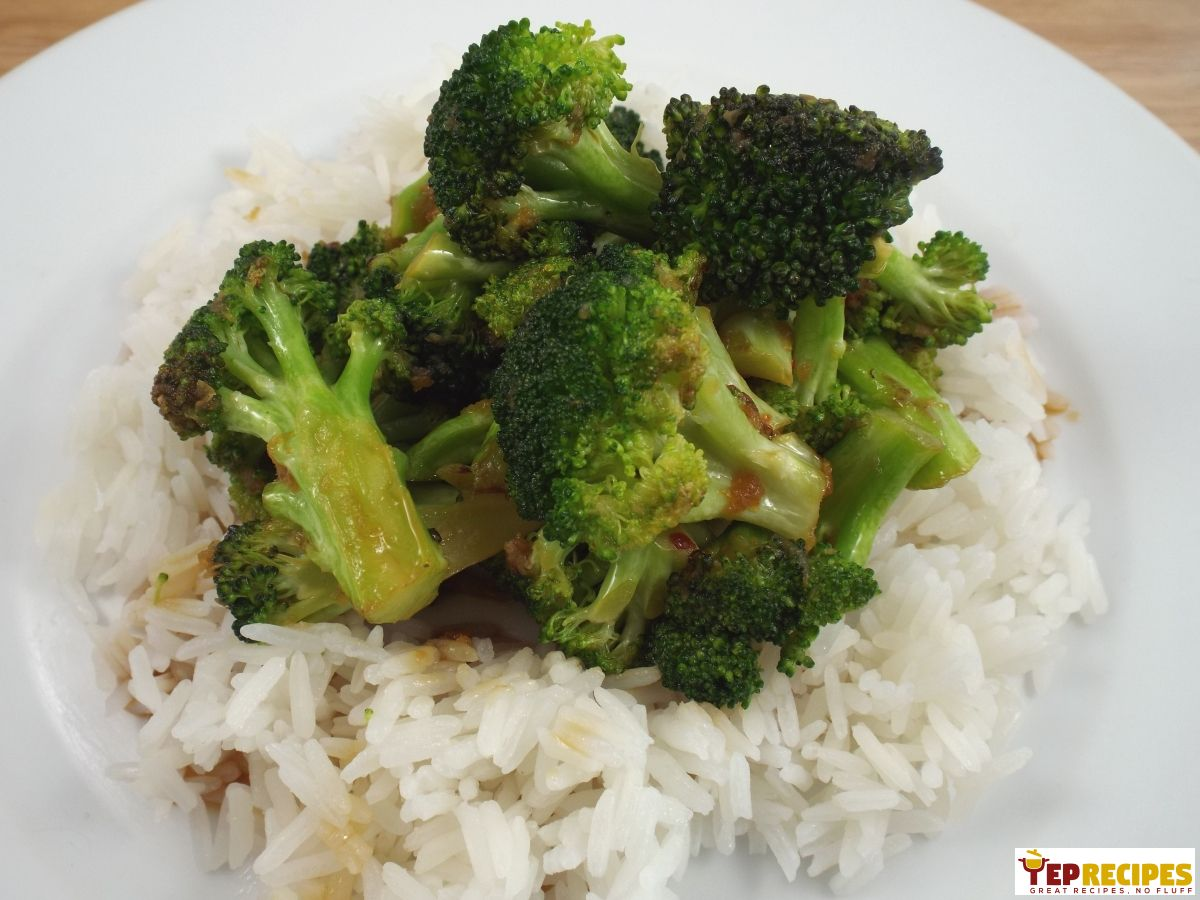broccoli: (148, 20, 996, 703)
